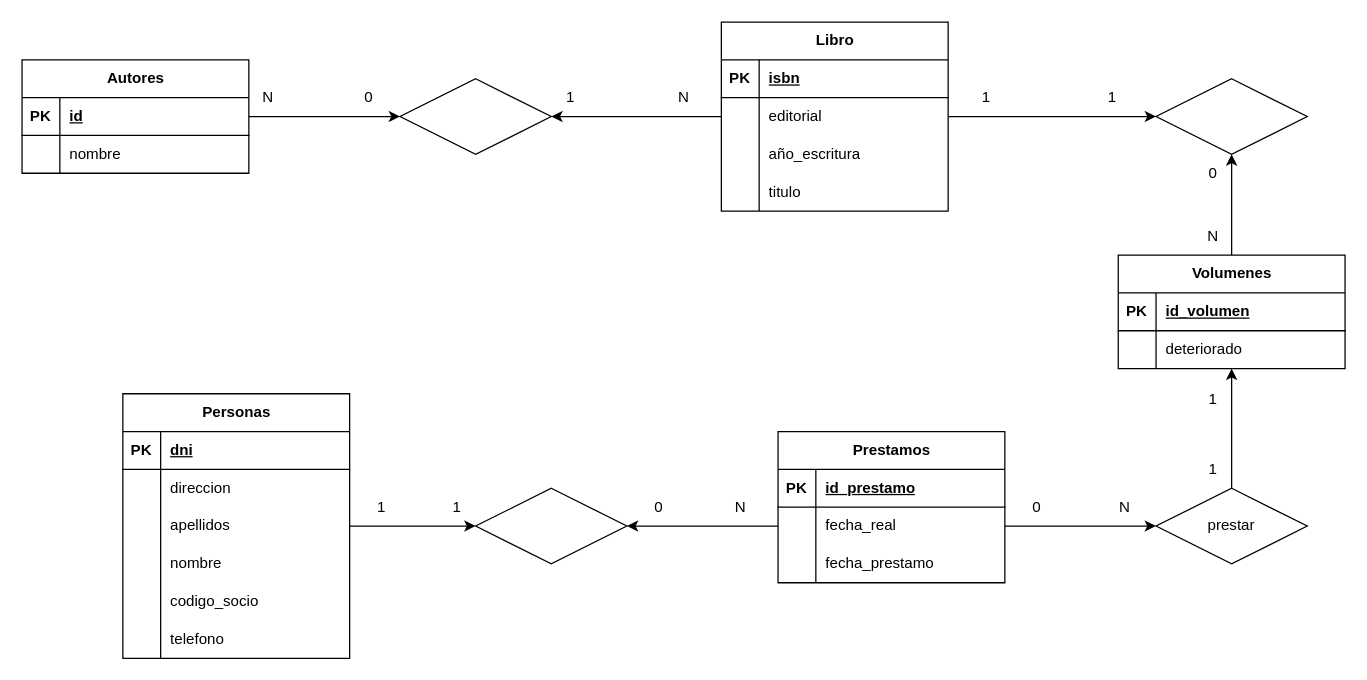
Some shapes in this 1367 by 680 pixel diagram are drawn without their labels. Each missing label, with the centre of its shape:
"escribir" goes at [475,115].
"hacer" goes at [550,525].
"tener" goes at [1231,115].
